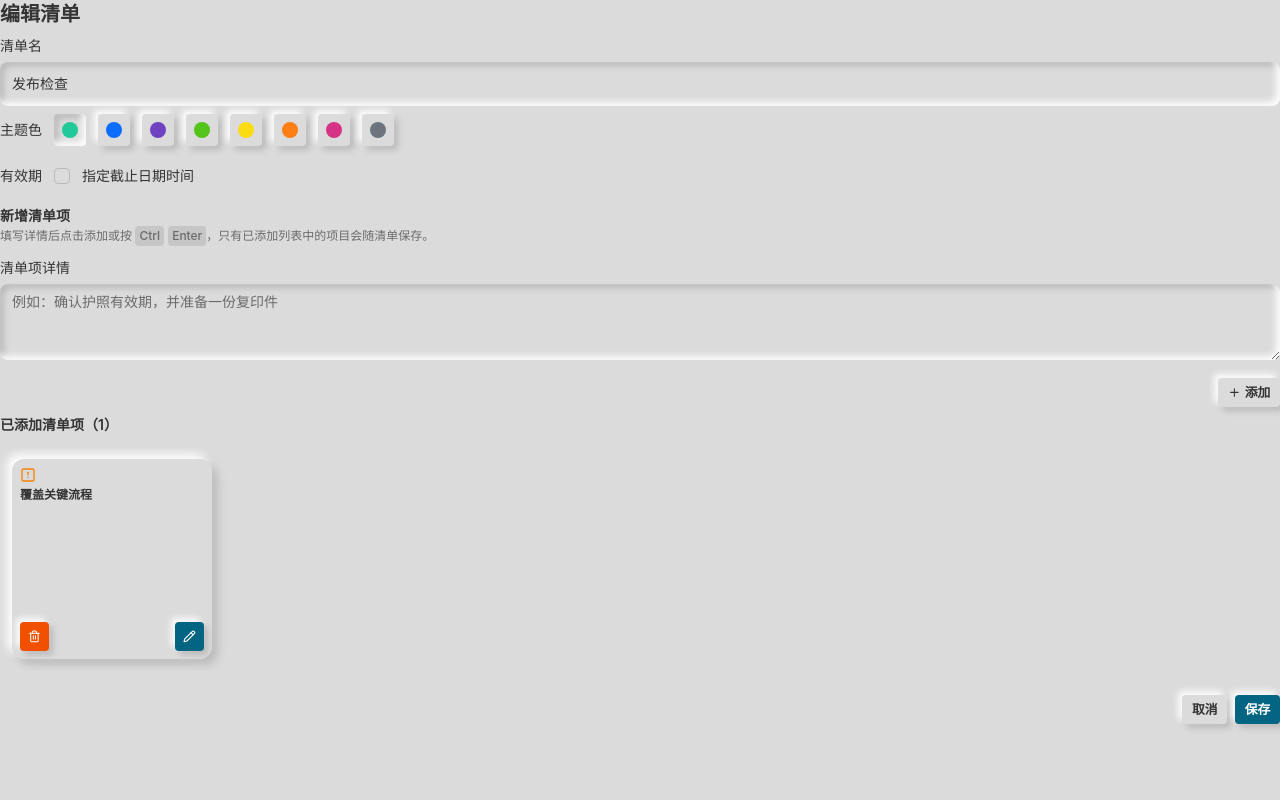
ChecklistForm › saves an edited checklist item with Ctrl and Enter
The width and height of the screenshot is (1280, 800).
Click the button named "编辑清单项" at x=190, y=636, box [175,622,204,651]
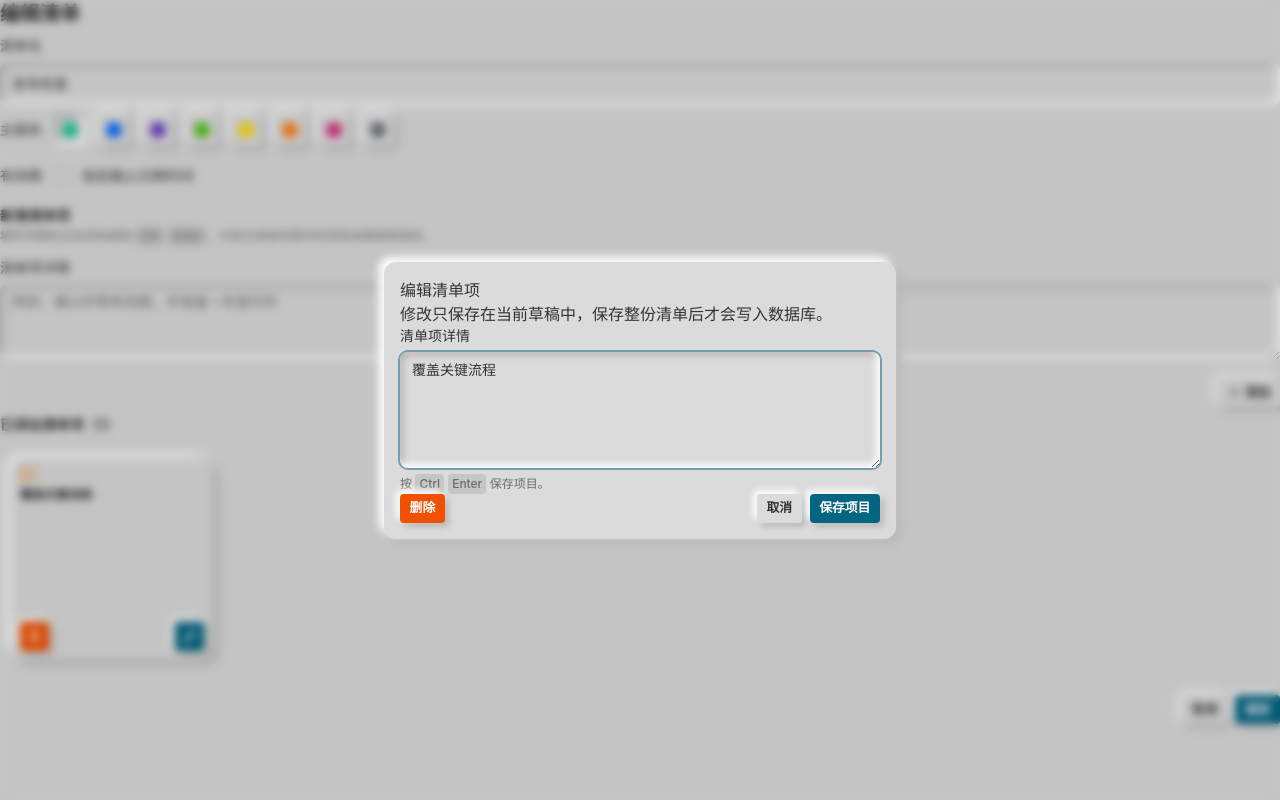
Replace the text in the text box labelled "清单项详情" with "快捷键保存后的项目" at x=640, y=410, box [400,352,880,468]
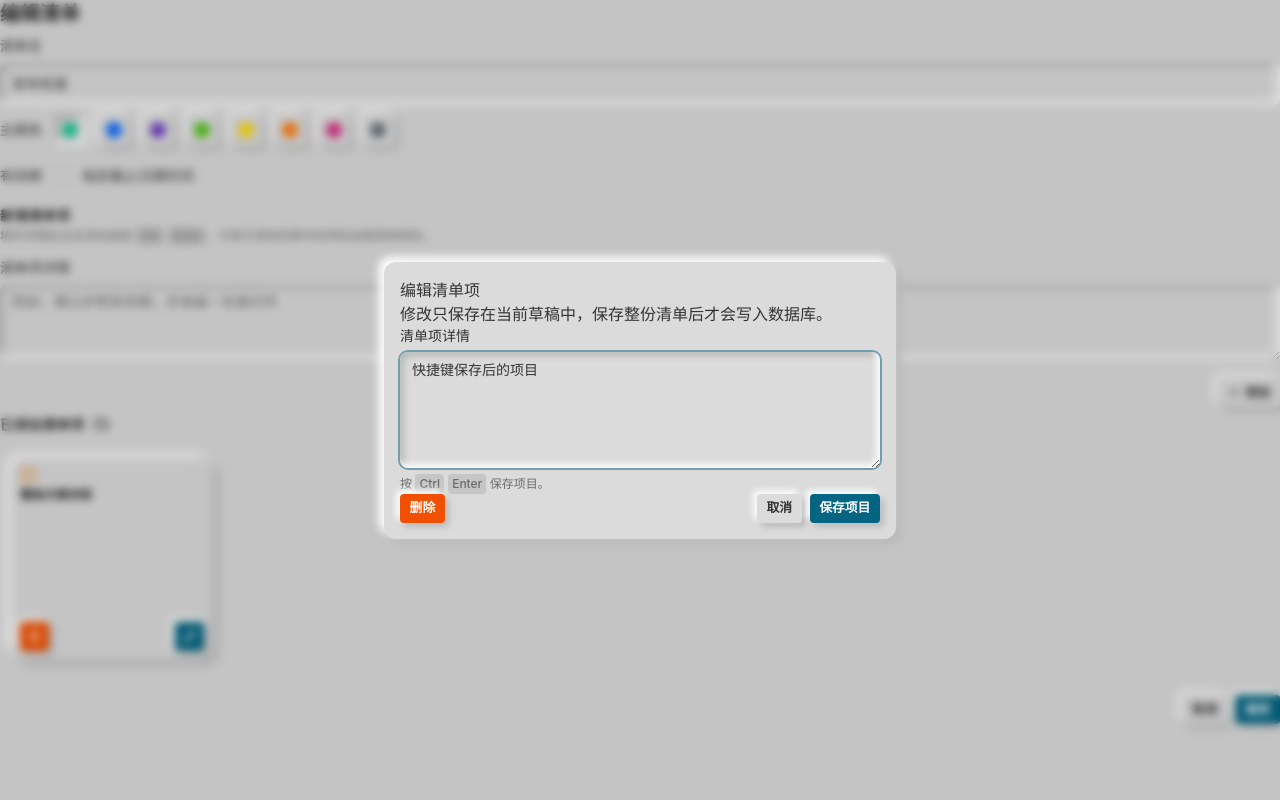
Type keys "{Control>}{Enter}{/Control}"
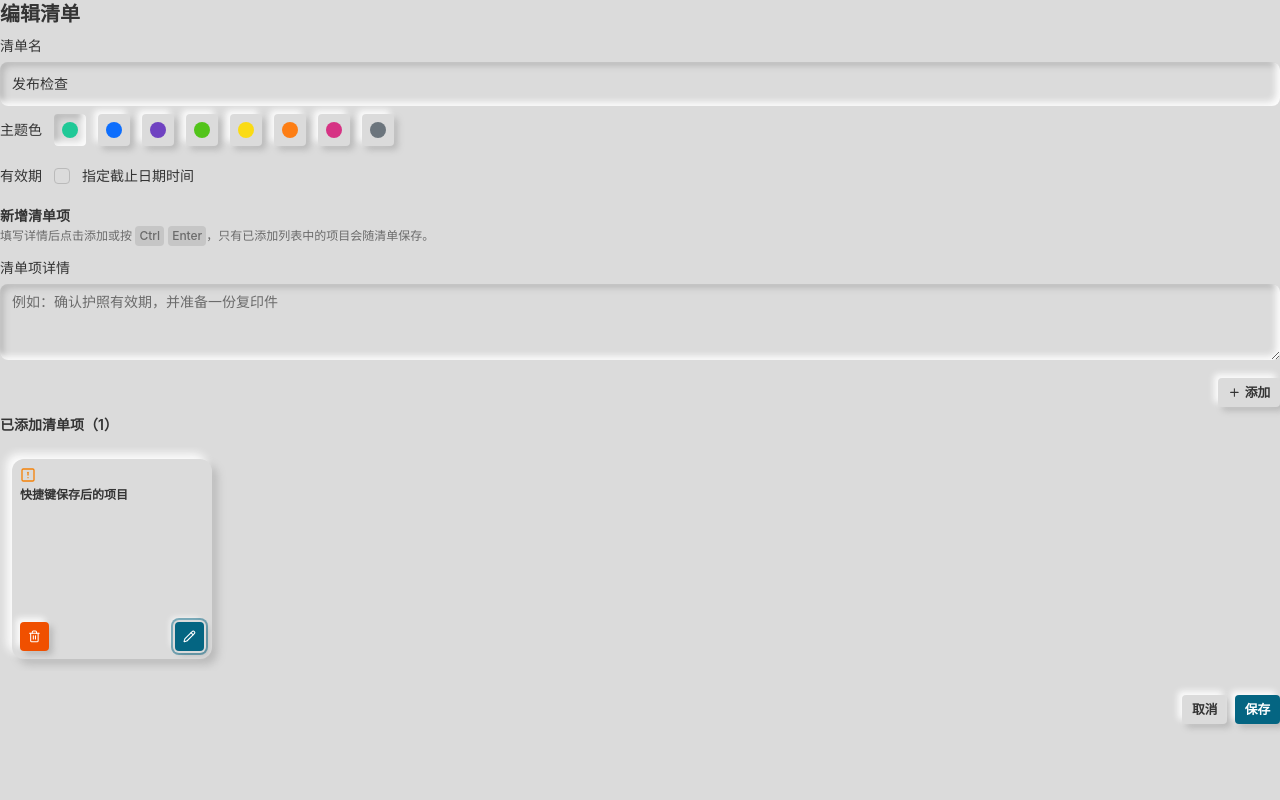
Now the dialog is gone
Now the heading "快捷键保存后的项目" is shown, box [20,487,128,502]
